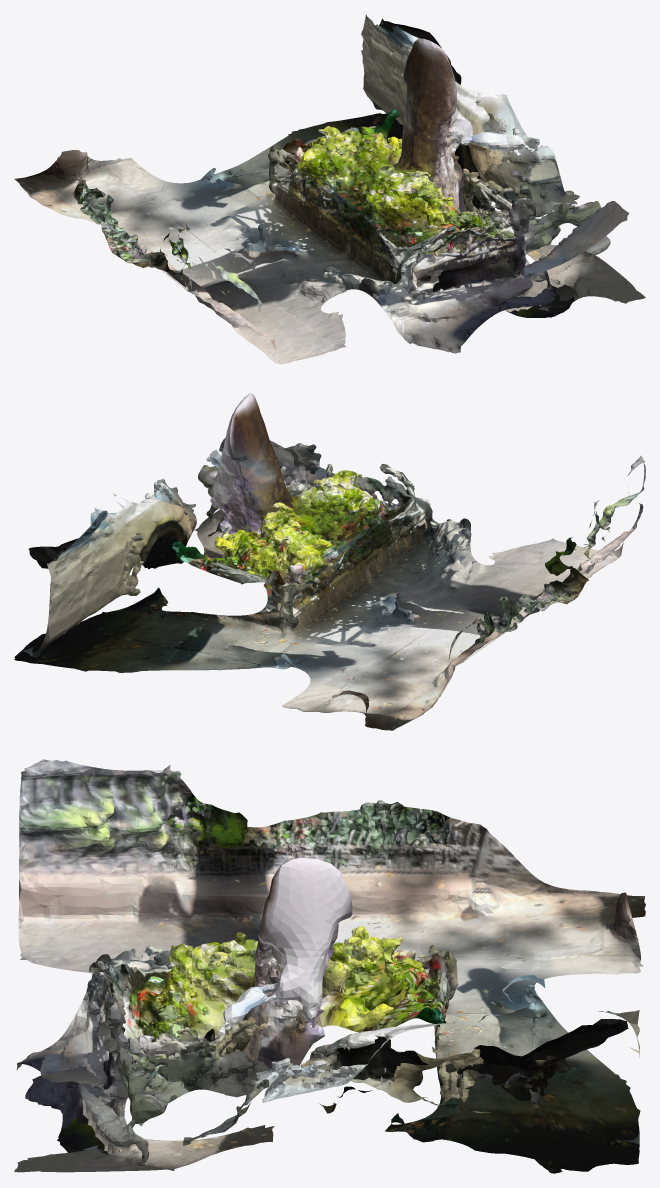
The model's file is flower-bed.glb.
3 views of the same model, one above another, from view 1: azimuth 30°, elevation 25°; view 2: azimuth 150°, elevation 25°; view 3: azimuth 270°, elevation 25° (orthographic). The views are drawn at different scales.
Size of the model in its own units: 4.22 by 2 by 4.19.
Materials: 1 (1 with a texture image).
